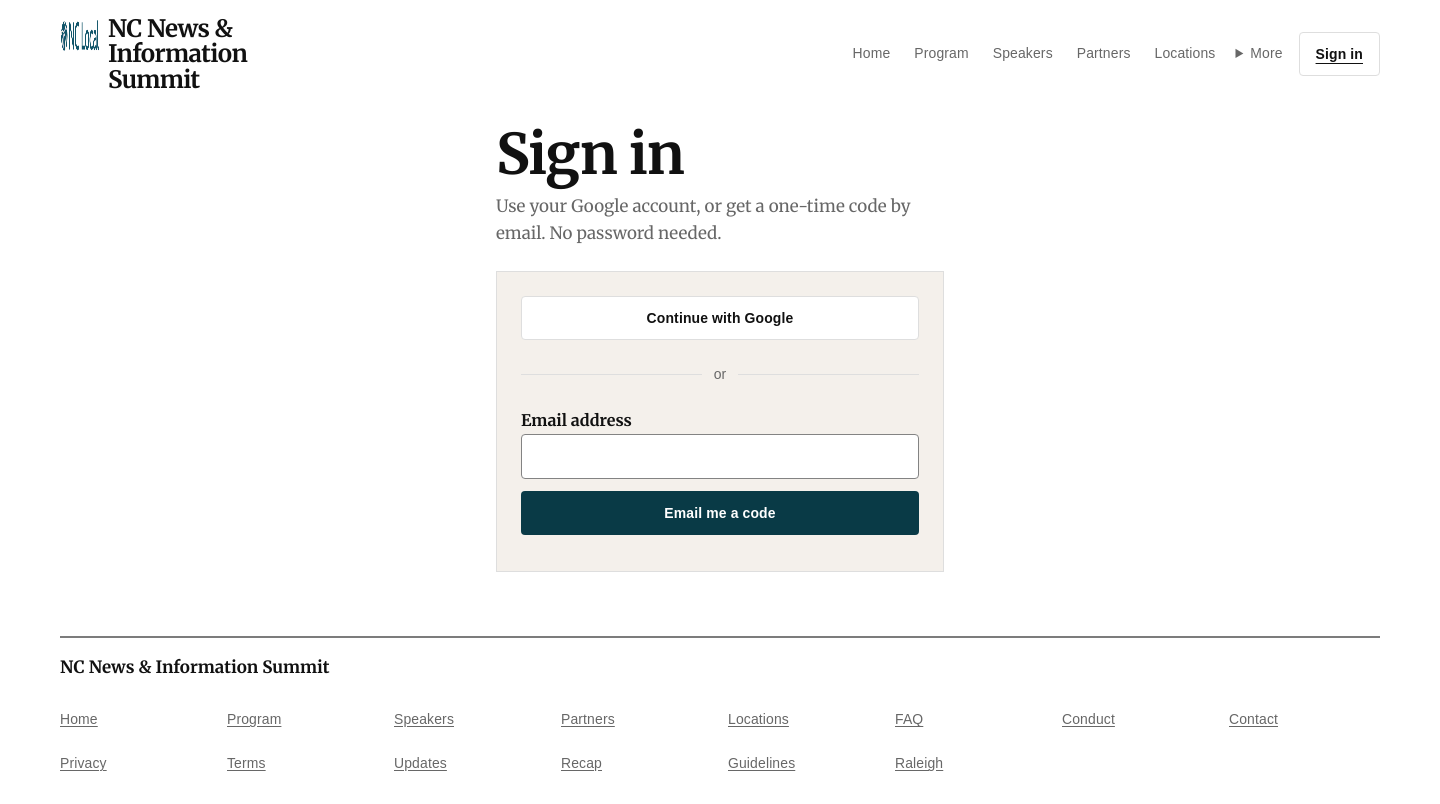
Test: emailed-code sign-in › surfaces a resend failure while already on the code step
Type "attendee@example.org" into the field labelled "Email address". click: (720, 457)
box: [521,434,919,479]
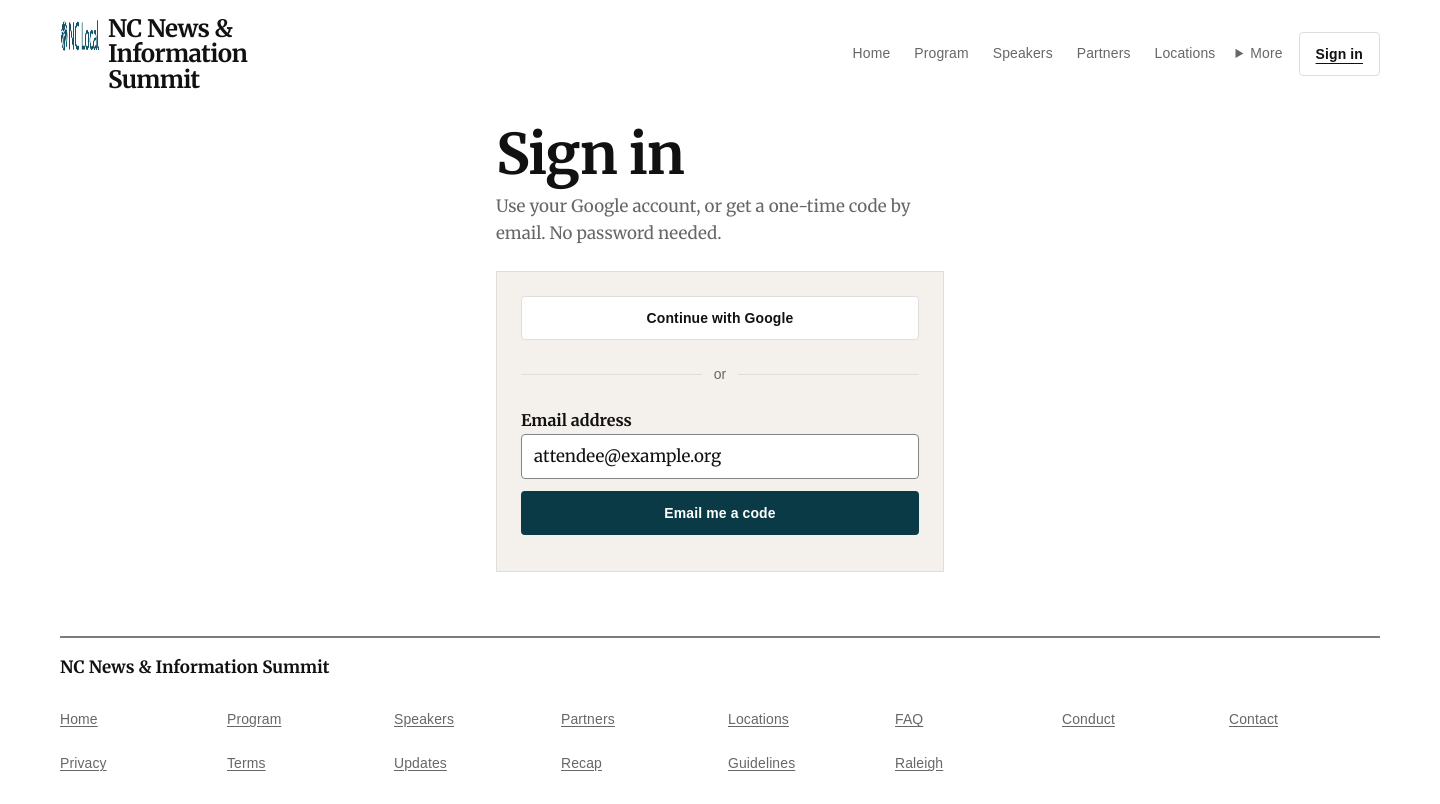
Click the button "Email me a code". click: click(720, 513)
box: [521,491,919,535]
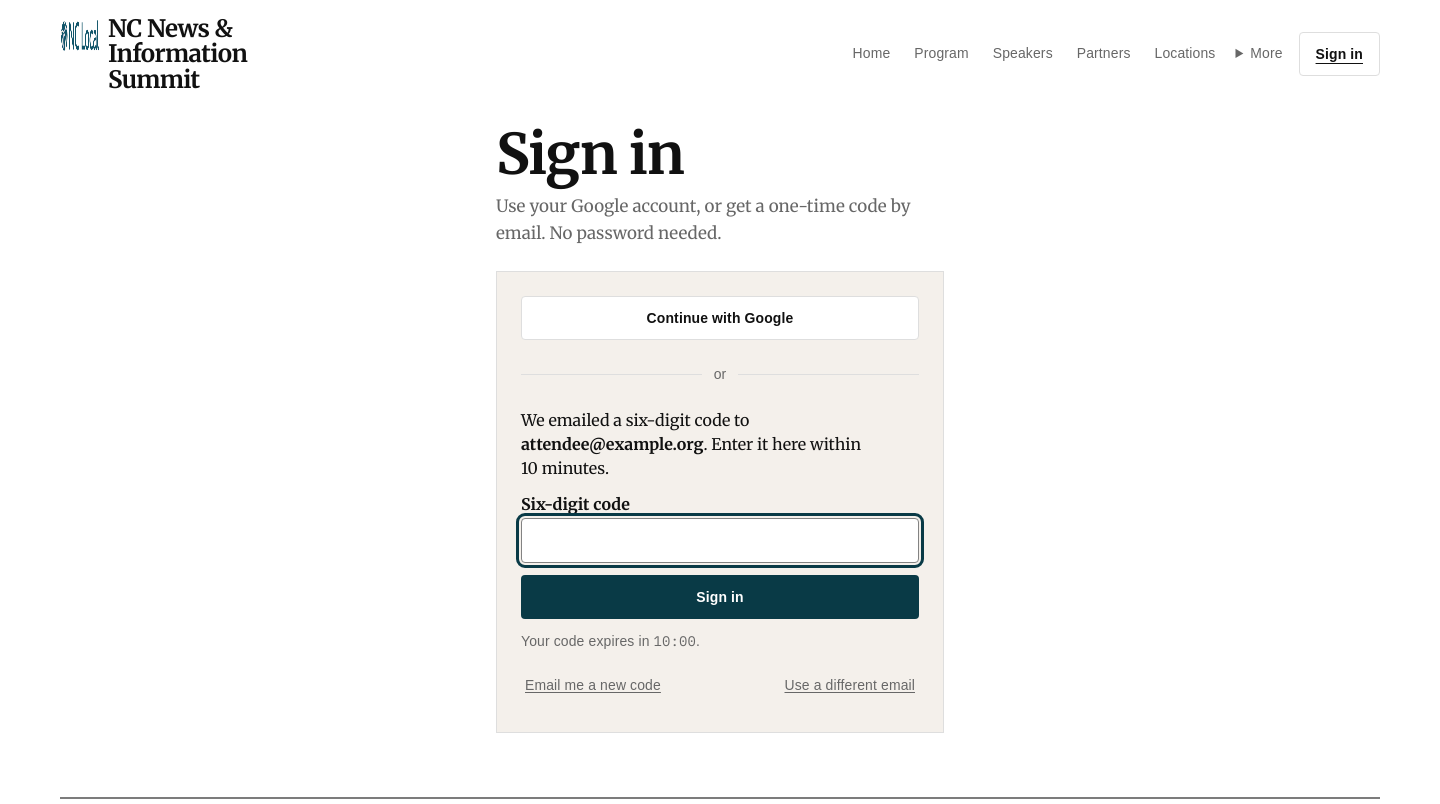
Click the button "Email me a new code". click: click(593, 686)
box: [521,664,665,708]
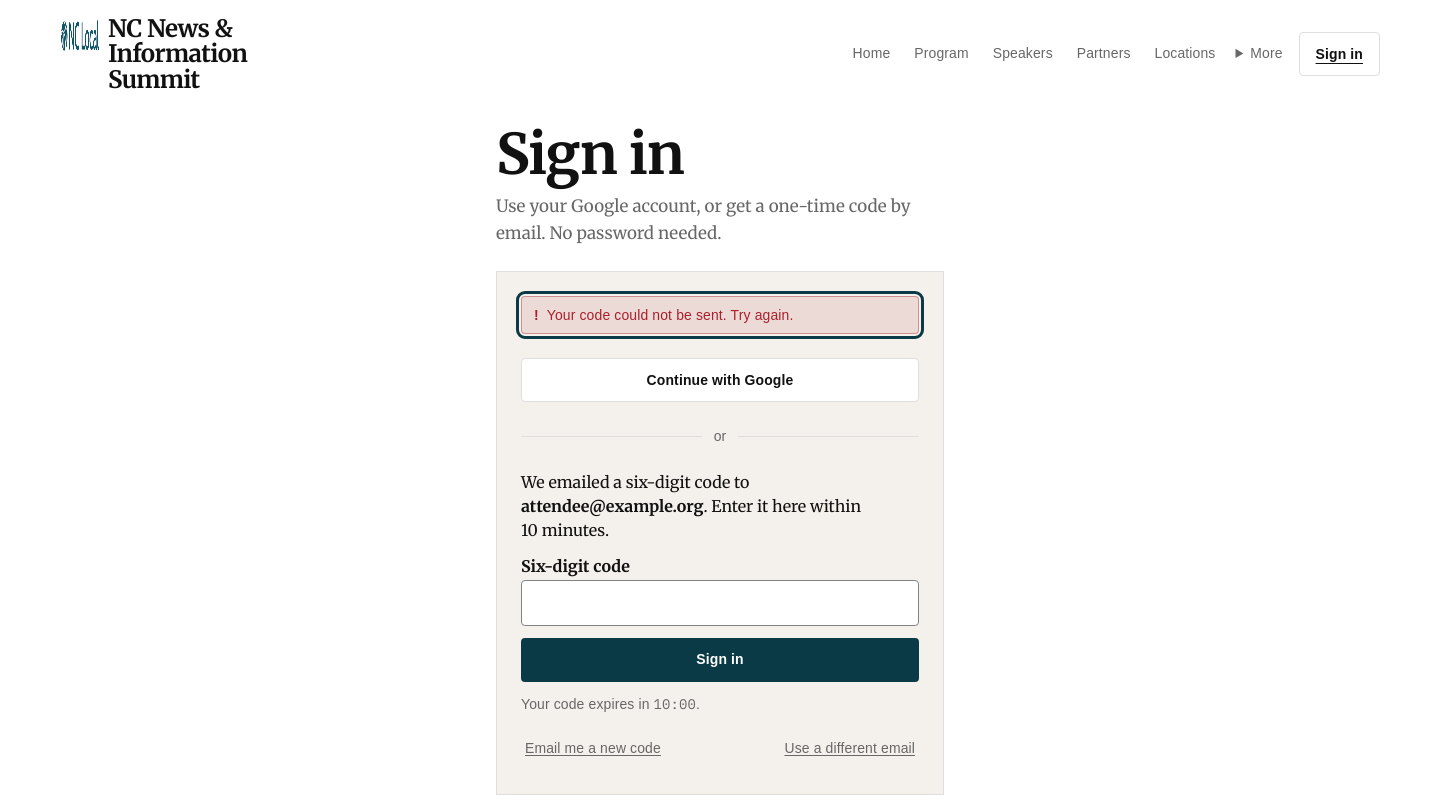
Expected: the field labelled "Six-digit code" is shown, [521,580,919,626]
Expected: the text "Your code could not be sent. Try again." is shown, [547,305,794,325]
